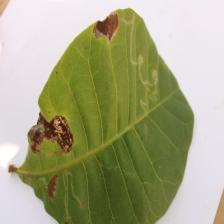leaf miner: (8, 7, 195, 223)
